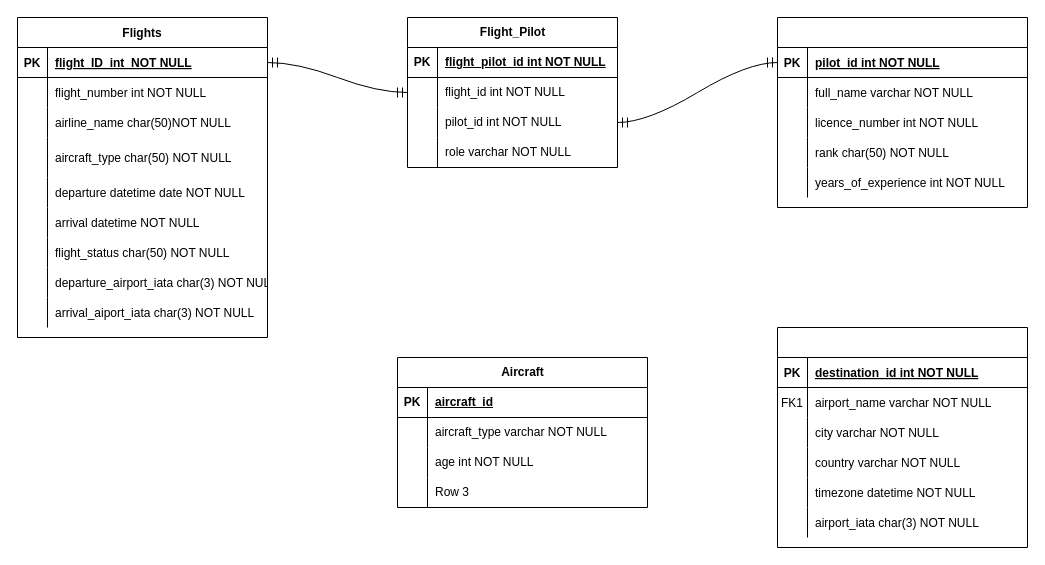
This 1045x565 diagram has some shape labels left out. The box of each missing label's shape, as (x1, y1, x2, y2) in pixels:
Destinations: (776, 326, 1028, 548)
Pilots: (776, 16, 1028, 208)
